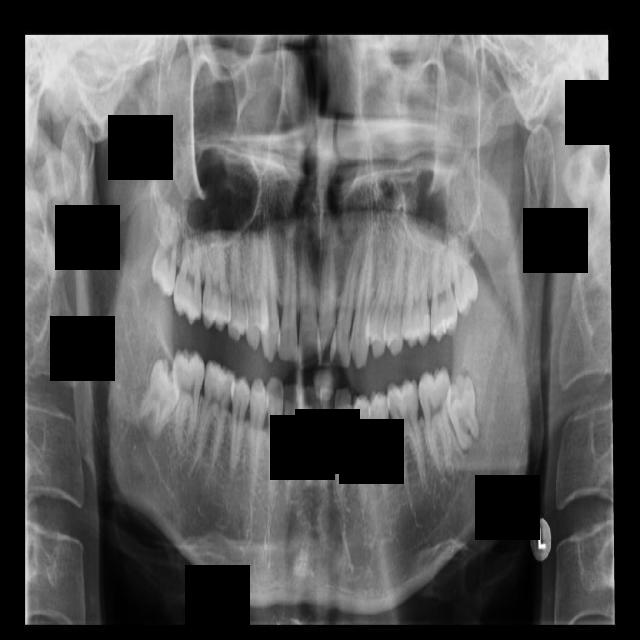3M ESPE Implant: (149, 202, 184, 298)
73: (616, 603, 625, 611)
BioHorizons Implant: (430, 229, 458, 342)
BioLife Implant: (447, 207, 481, 318)
Biomet 3i Implant: (443, 373, 482, 451)
Blue Sky Bio Implant: (419, 367, 452, 467)
Caries: (173, 206, 204, 325)
Implant: (170, 348, 209, 446)
Keystone Dental Implant: (134, 356, 189, 439)
